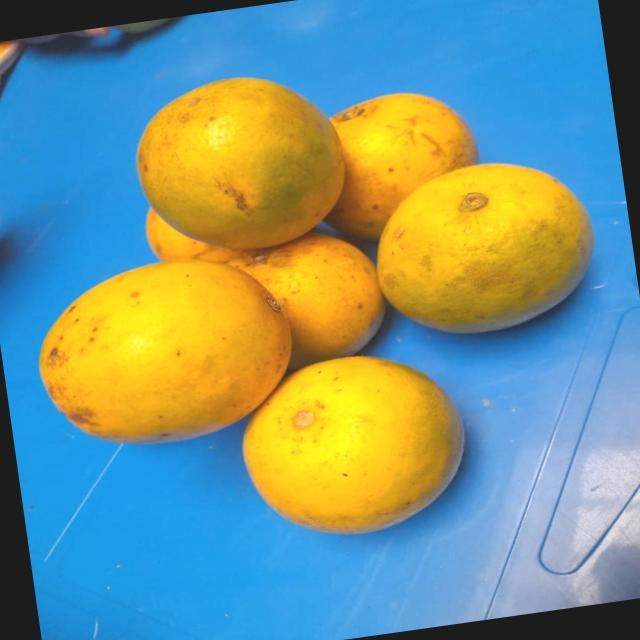agrume: (15, 246, 302, 474), (219, 339, 477, 557), (360, 146, 607, 354), (123, 64, 360, 262), (315, 64, 492, 232), (101, 187, 223, 273)
